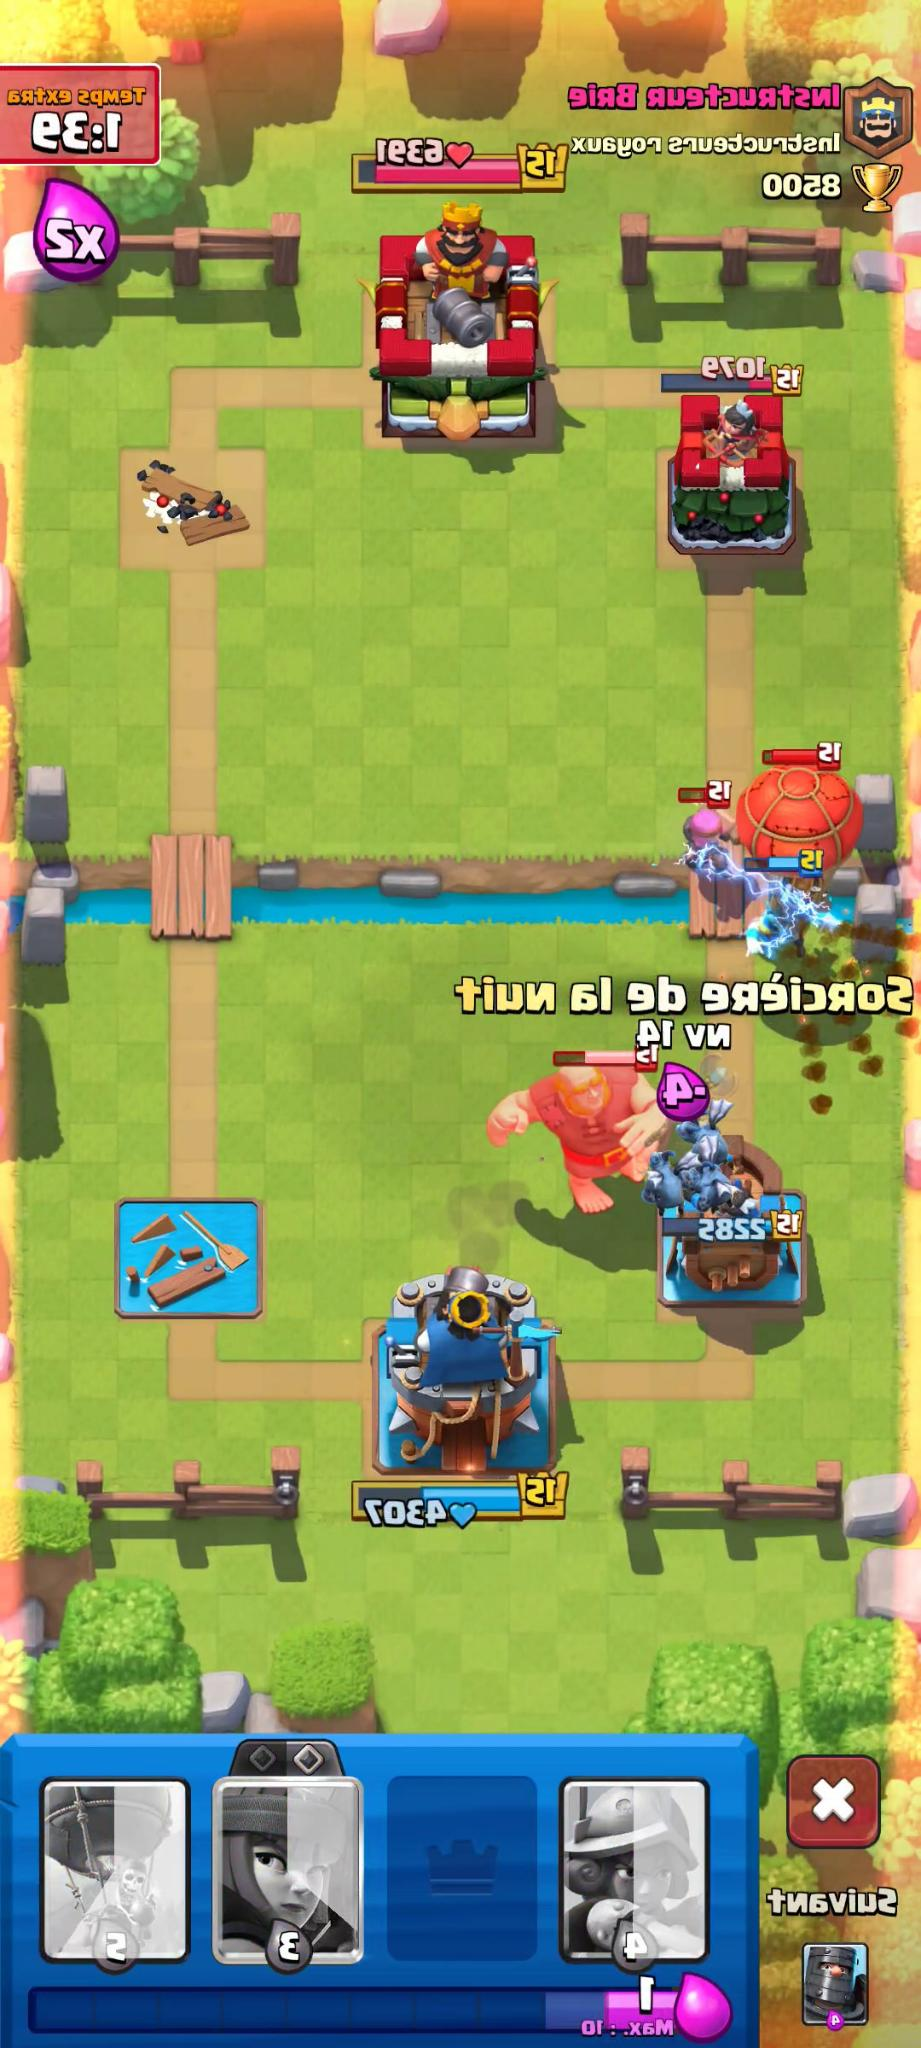gargouille: (767, 859, 822, 973), (634, 1157, 696, 1237), (668, 1089, 728, 1164), (687, 1169, 745, 1215)
geant: (483, 1027, 670, 1249)
